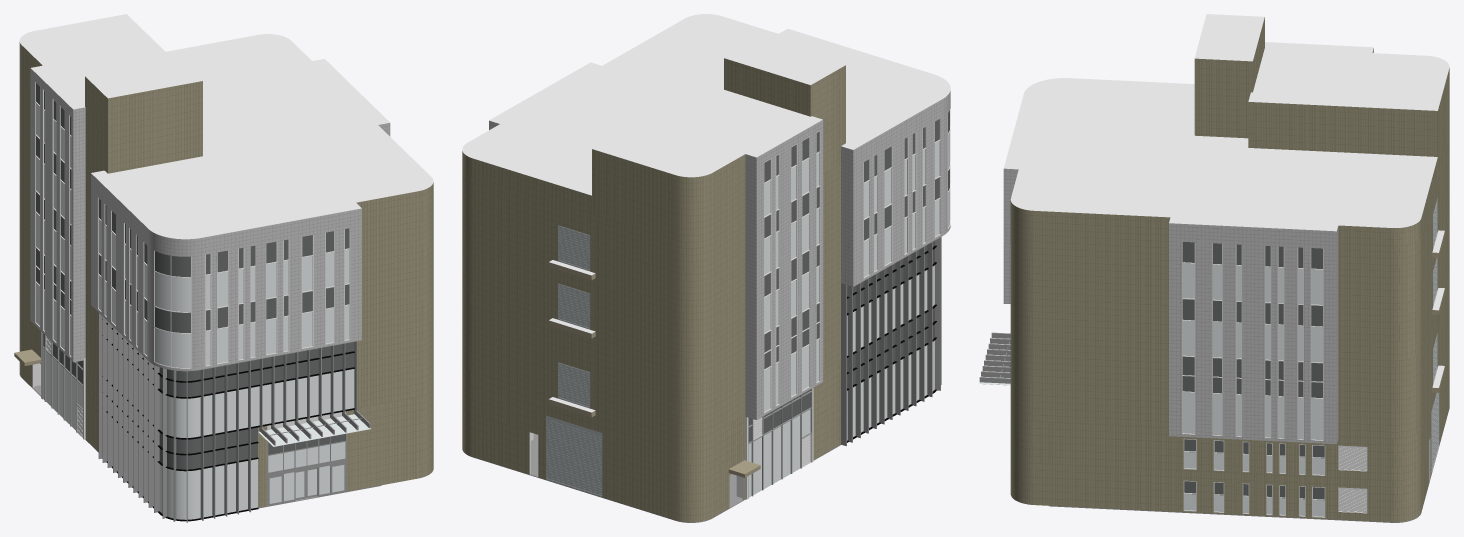
File: building.gltf
The picture shows the model from 3 angles, left to right: view 1: azimuth 30°, elevation 25°; view 2: azimuth 150°, elevation 25°; view 3: azimuth 270°, elevation 25°; orthographic projection. The views are drawn at different scales.
Visible parts, largest first — view 1: Obj_rF_24, Obj_rF_20, Obj_rF_28, Obj_3F_69, Obj_4F_88, Obj_2F_39, Obj_3F_72, Obj_4F_84, Obj_2F_60, Obj_1F_57, Obj_rF_30, Obj_rF_9 (+42 smaller); view 2: Obj_rF_24, Obj_2F_41, Obj_4F_81, Obj_rF_28, Obj_3F_74, Obj_rF_3, Obj_1M_8, Obj_3F_52, Obj_2F_60, Obj_4F_86, Obj_rF_9, Obj_1F_75 (+37 smaller); view 3: Obj_rF_24, Obj_2F_37, Obj_1F_56, Obj_1M_2, Obj_4F_83, Obj_3F_73, Obj_rF_28, Obj_rF_26, Obj_2F_30, Obj_4F_71, Obj_3F_26, Obj_rF_21 (+34 smaller).
Boxes of the visible parts, box(x1,y1,x2,y2) form: Obj_rF_24: box(94, 35, 429, 238); Obj_rF_20: box(109, 80, 201, 173); Obj_rF_28: box(23, 16, 169, 108); Obj_3F_69: box(202, 282, 361, 369); Obj_4F_88: box(202, 226, 361, 311); Obj_2F_39: box(357, 321, 417, 407); Obj_3F_72: box(362, 265, 417, 330); Obj_4F_84: box(362, 209, 417, 274); Obj_2F_60: box(30, 243, 85, 362); Obj_1F_57: box(346, 438, 417, 491); Obj_rF_30: box(201, 201, 361, 254); Obj_rF_9: box(30, 65, 85, 171); Obj_rF_24: box(464, 15, 948, 194); Obj_2F_41: box(473, 293, 675, 434); Obj_4F_81: box(473, 177, 675, 297); Obj_rF_28: box(598, 85, 819, 175); Obj_3F_74: box(473, 235, 675, 355); Obj_rF_3: box(473, 148, 677, 239); Obj_1M_8: box(473, 372, 675, 477); Obj_3F_52: box(841, 176, 942, 286); Obj_2F_60: box(745, 301, 823, 419); Obj_4F_86: box(841, 118, 942, 226); Obj_rF_9: box(743, 116, 823, 222); Obj_1F_75: box(602, 455, 675, 519); Obj_rF_24: box(1006, 79, 1435, 230); Obj_2F_37: box(1034, 343, 1391, 438); Obj_1F_56: box(1034, 463, 1391, 522); Obj_1M_2: box(1034, 421, 1391, 480); Obj_4F_83: box(1034, 228, 1391, 303); Obj_3F_73: box(1034, 286, 1391, 360); Obj_rF_28: box(1251, 43, 1445, 108); Obj_rF_26: box(1248, 100, 1438, 173); Obj_2F_30: box(1169, 356, 1338, 444); Obj_4F_71: box(1169, 241, 1338, 306); Obj_3F_26: box(1169, 298, 1338, 363); Obj_rF_21: box(1194, 57, 1252, 138).
Size of the model in its own units: 27.49 by 31.1 by 35.63.
10 materials, 2 textured.
